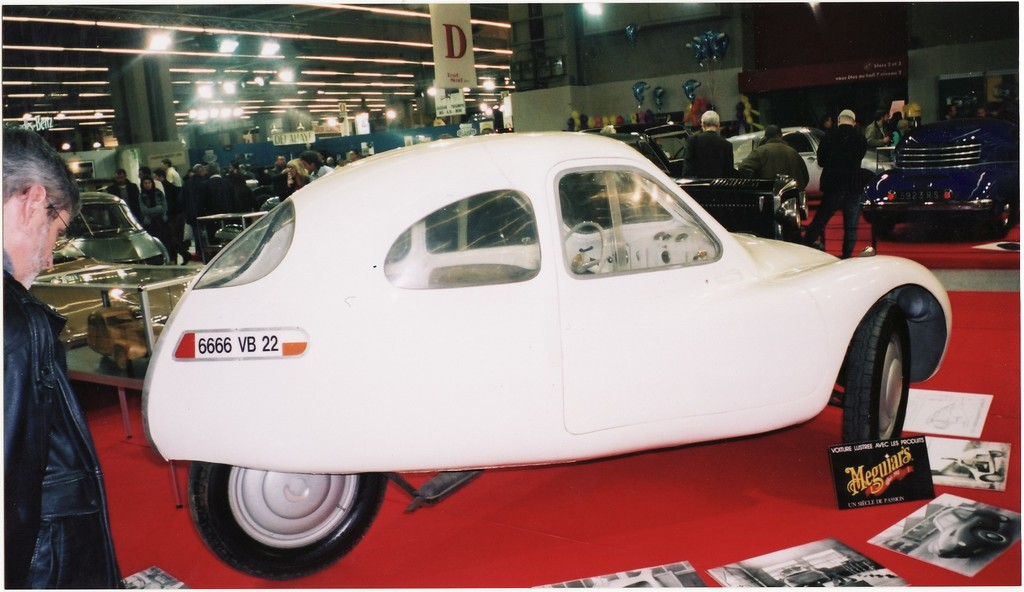mobil: (141, 117, 1001, 549)
